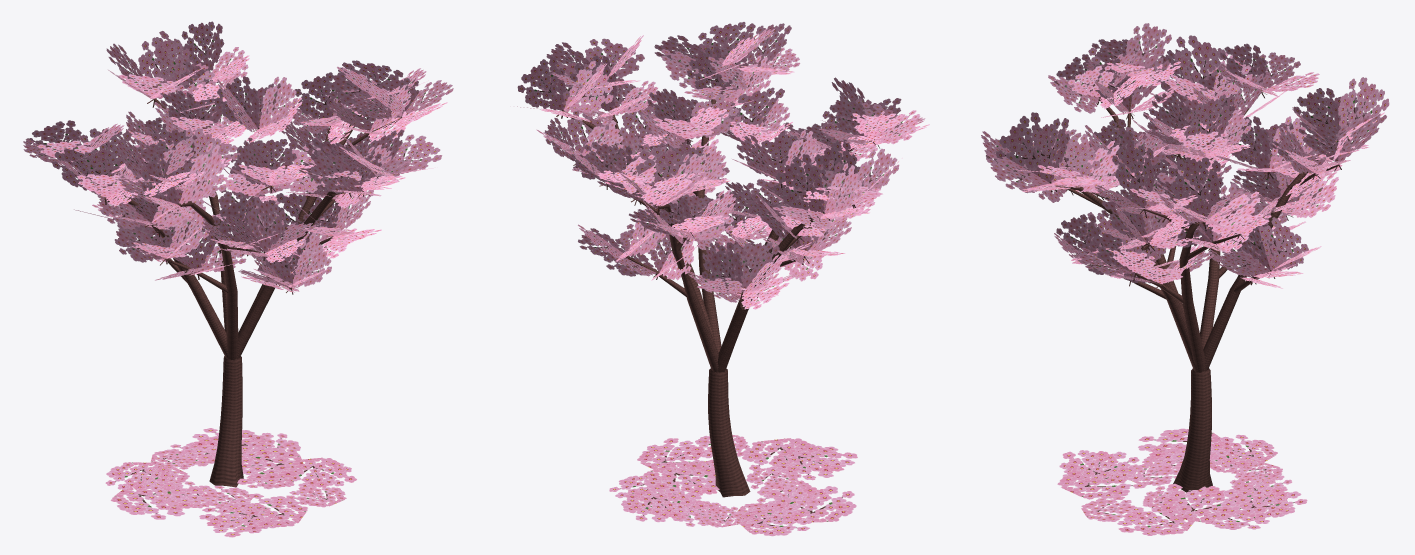
Rendered from mai_anh_dao.glb.
3 renders of one model, left to right at view 1: azimuth 30°, elevation 25°; view 2: azimuth 150°, elevation 25°; view 3: azimuth 270°, elevation 25°, orthographic. The views are drawn at different scales.
Visible parts, largest first — view 1: mai_anh_dao; view 2: mai_anh_dao; view 3: mai_anh_dao.
Part boxes in pixels (<box>): mai_anh_dao: <box>23,21,453,537</box>; mai_anh_dao: <box>517,22,929,536</box>; mai_anh_dao: <box>981,23,1389,535</box>.
Bounding box in the file's own units: 8.28 × 8.19 × 7.82.
2 materials, 2 textured.
